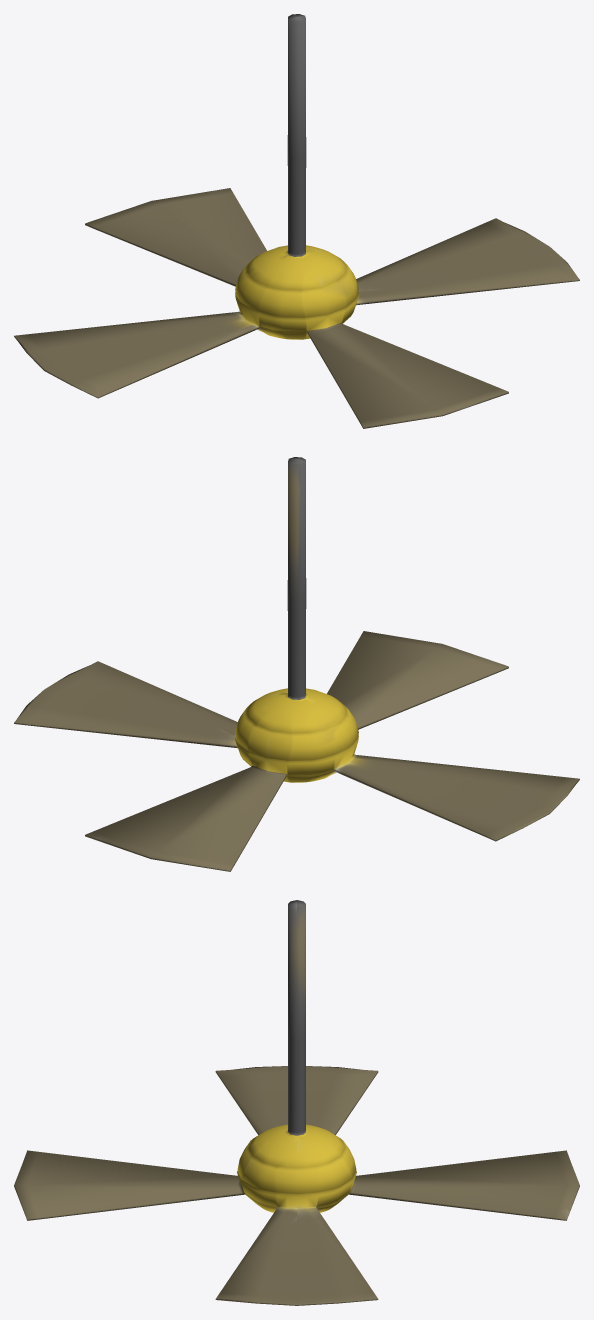
File: CeilingFan.fbx
The picture shows the model from 3 angles, top to bottom: view 1: azimuth 30°, elevation 25°; view 2: azimuth 150°, elevation 25°; view 3: azimuth 270°, elevation 25°; orthographic projection. The views are drawn at different scales.
Parts seen in each view (by area): view 1: Ceiling_Fan_LP; view 2: Ceiling_Fan_LP; view 3: Ceiling_Fan_LP.
Part boxes in pixels (x1=…): Ceiling_Fan_LP: x1=14, y1=14, x2=579, y2=428; Ceiling_Fan_LP: x1=14, y1=457, x2=579, y2=871; Ceiling_Fan_LP: x1=14, y1=900, x2=579, y2=1305.
Size of the model in its own units: 0.9883 by 0.5677 by 0.9883.
